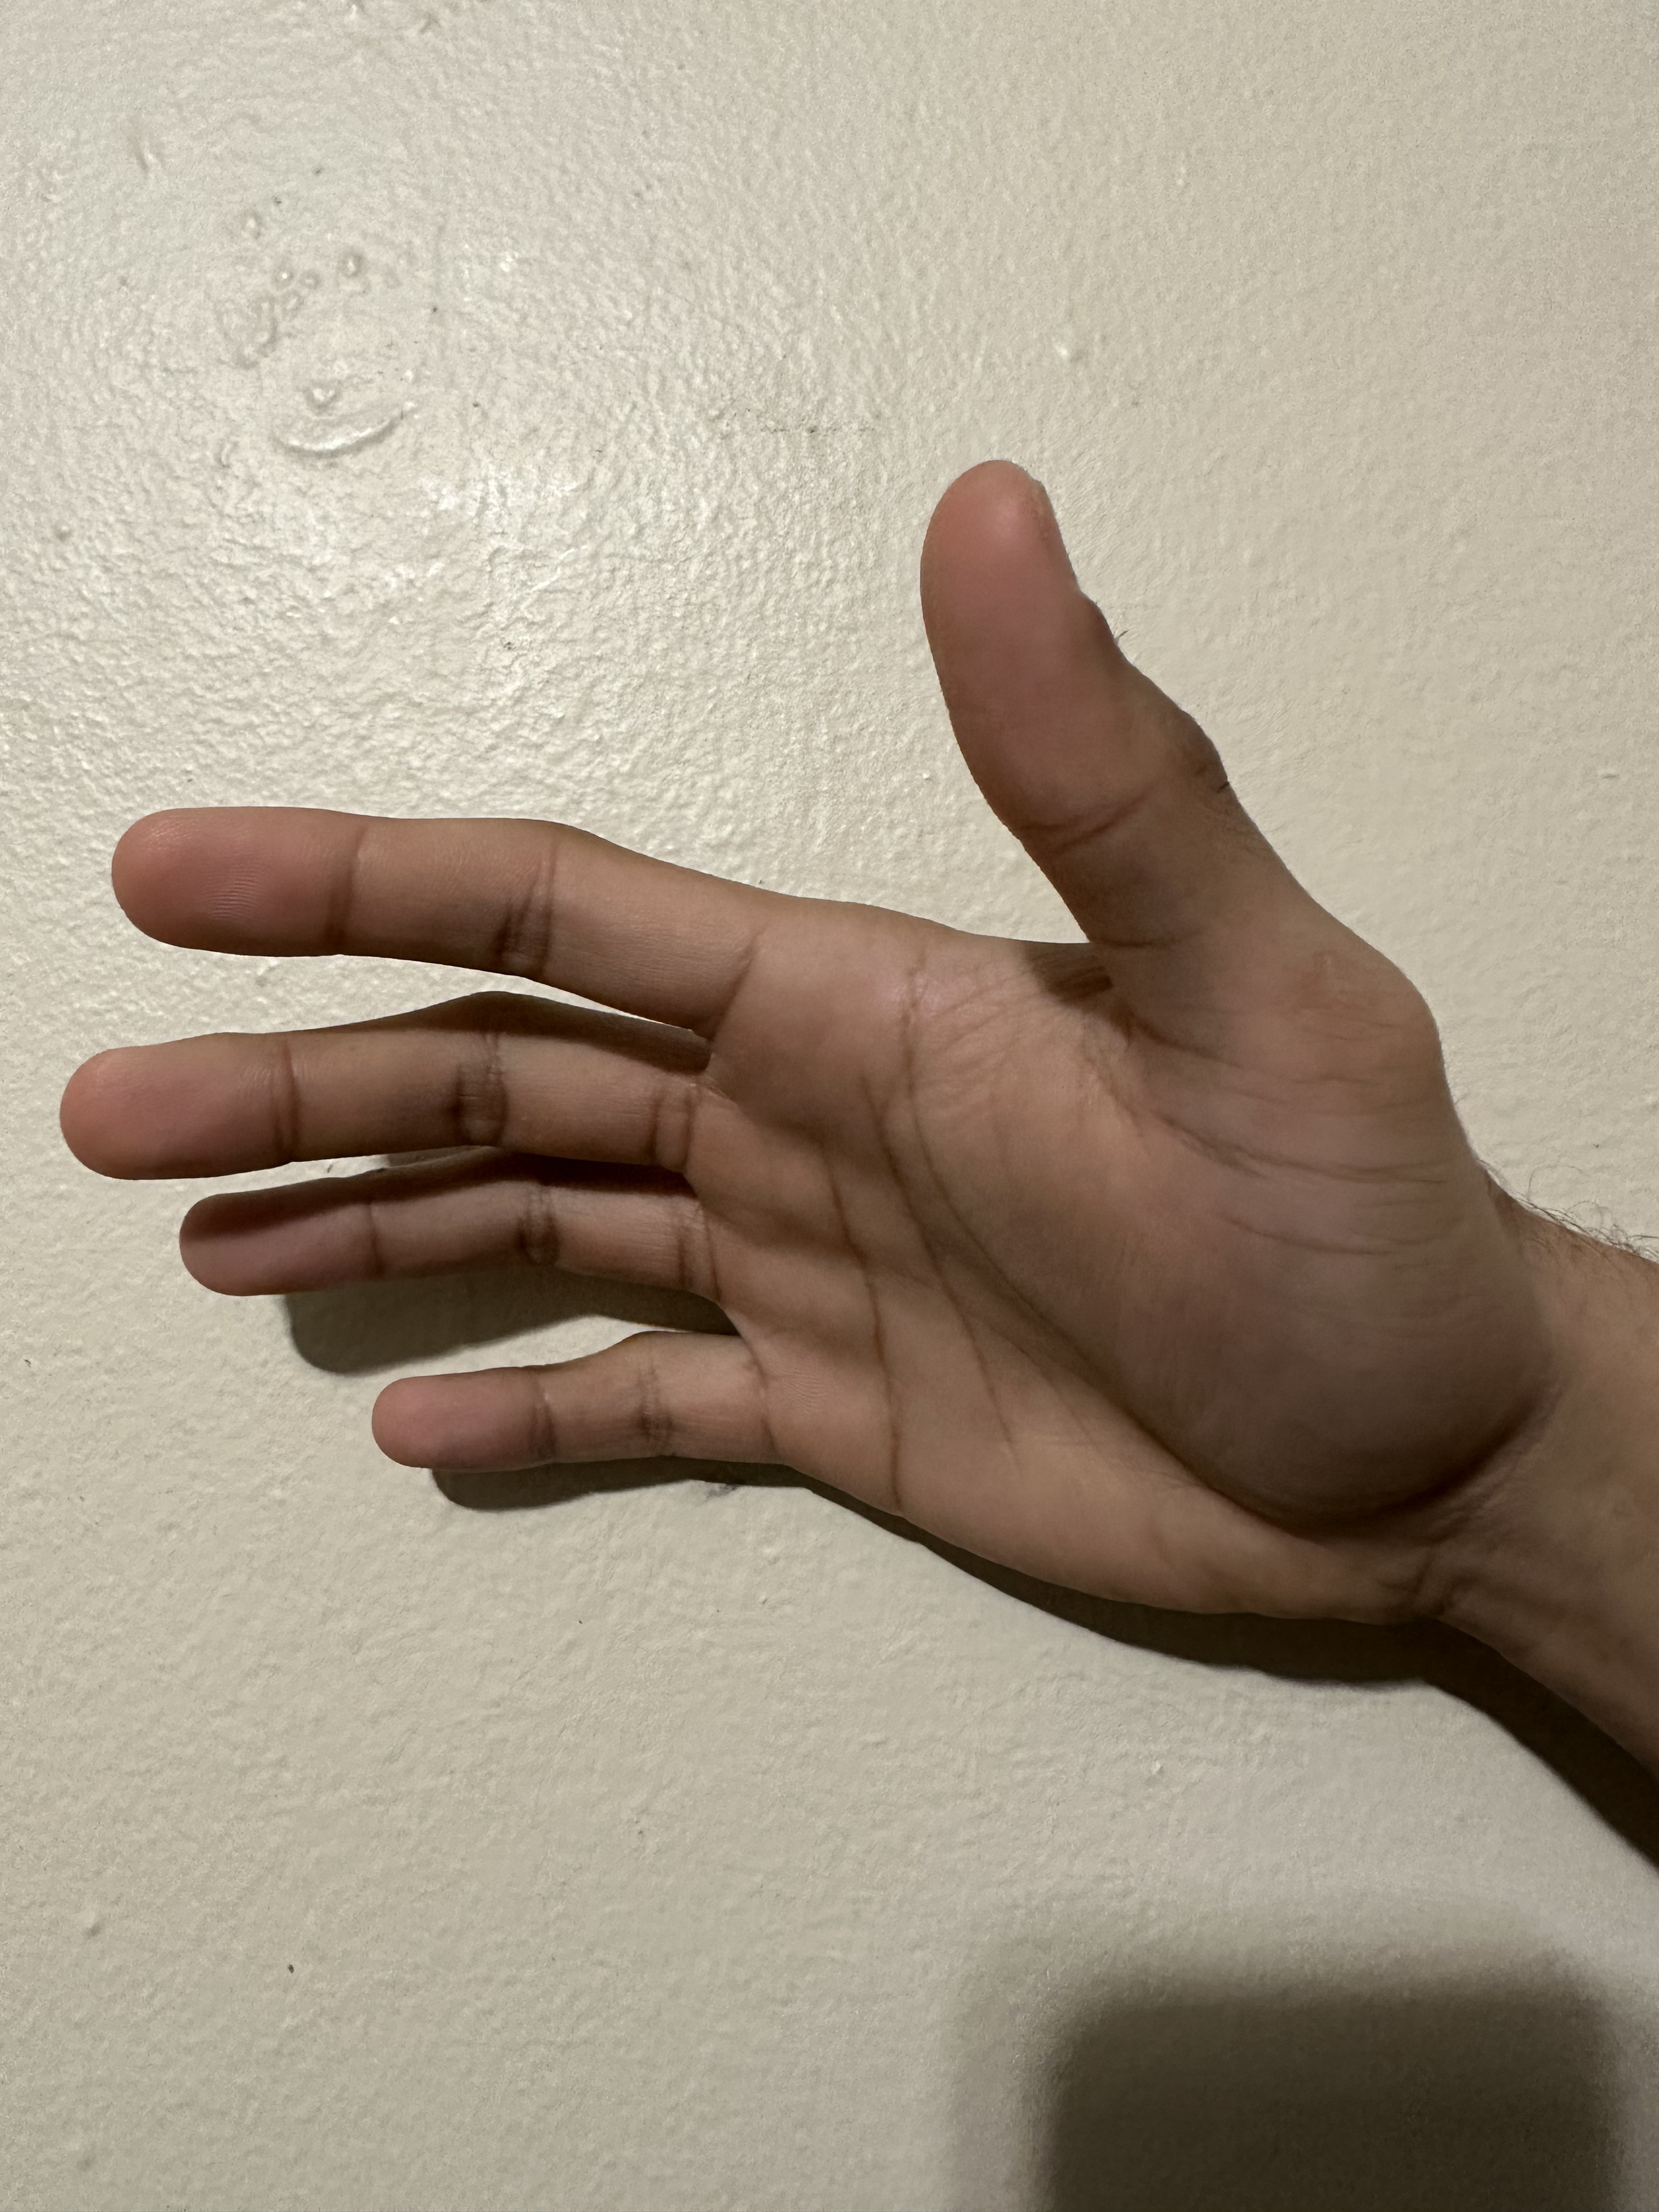finger: (884, 418, 1161, 805), (66, 773, 361, 977), (35, 1019, 298, 1212), (143, 1174, 385, 1339), (324, 1367, 558, 1526)
